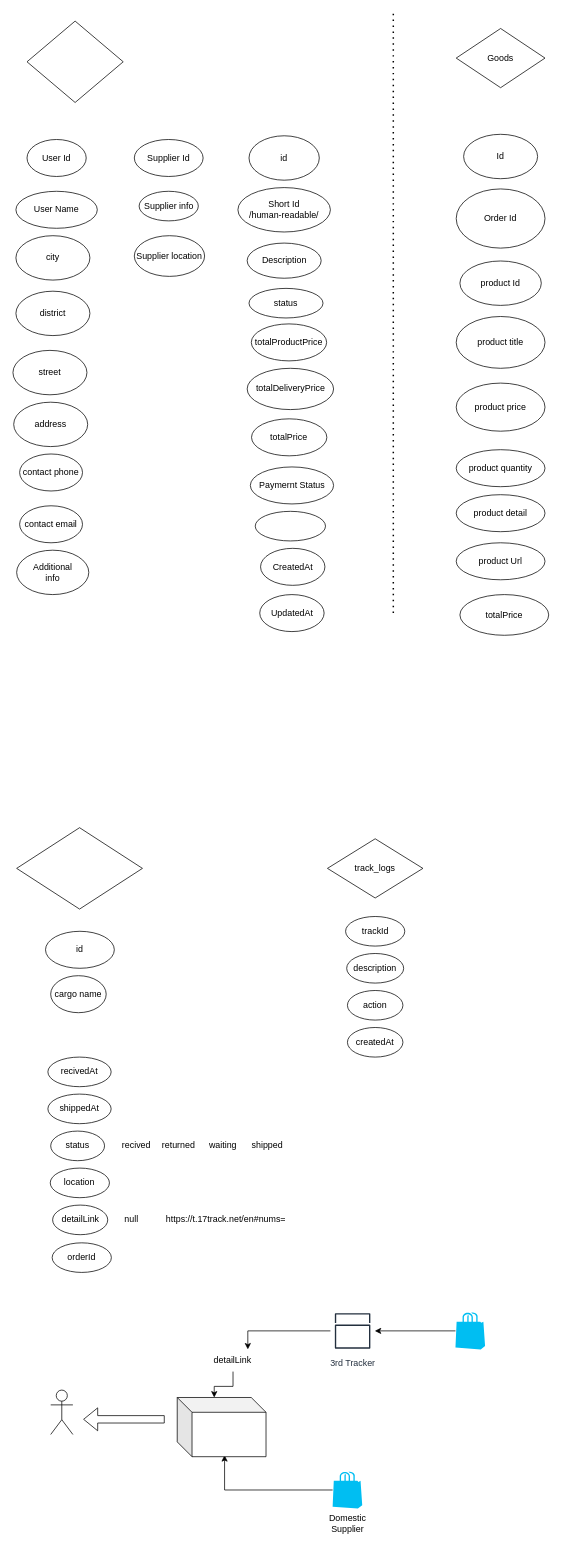
This 562x1547 diagram has some shape labels left out. Each missing label, with the centre of its shape:
"Actor" belongs at (61,1411).
"International Supplier" belongs at (470,1330).
"Order" belongs at (74,61).
"PaidAt" belongs at (290,526).
"Server" belongs at (221,1427).
"Track" belongs at (79,868).
